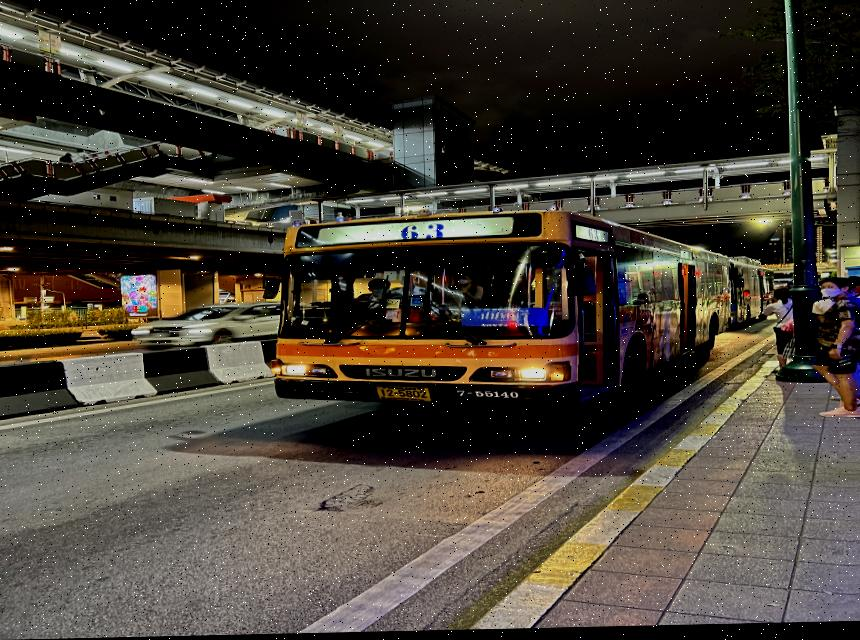BMTA-bus: (268, 213, 724, 415)
Bus Line Number: (389, 223, 460, 243)
Bus Side Number: (450, 385, 527, 406)
Destination Sign: (459, 308, 552, 332)
